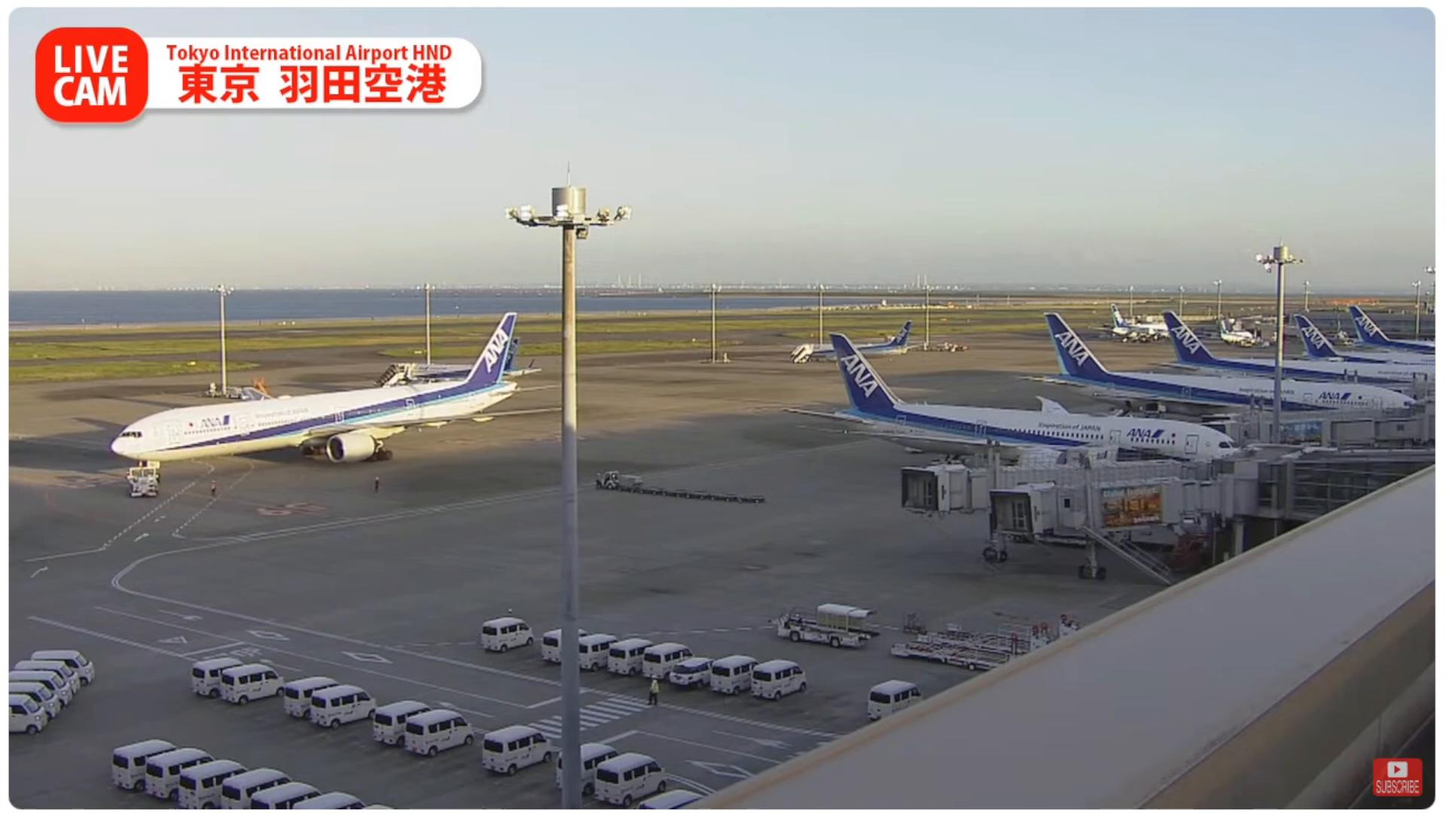APS: (125, 467, 158, 498)
Aerobridge: (992, 474, 1253, 544), (897, 462, 1214, 513)
Airplane: (110, 312, 562, 463)
Dolly: (617, 473, 765, 504)
JCPL: (918, 617, 1080, 654), (891, 641, 1014, 668)
Skyloader: (769, 599, 883, 648)
Tractor: (595, 469, 620, 489)
Window: (1253, 443, 1435, 520)
